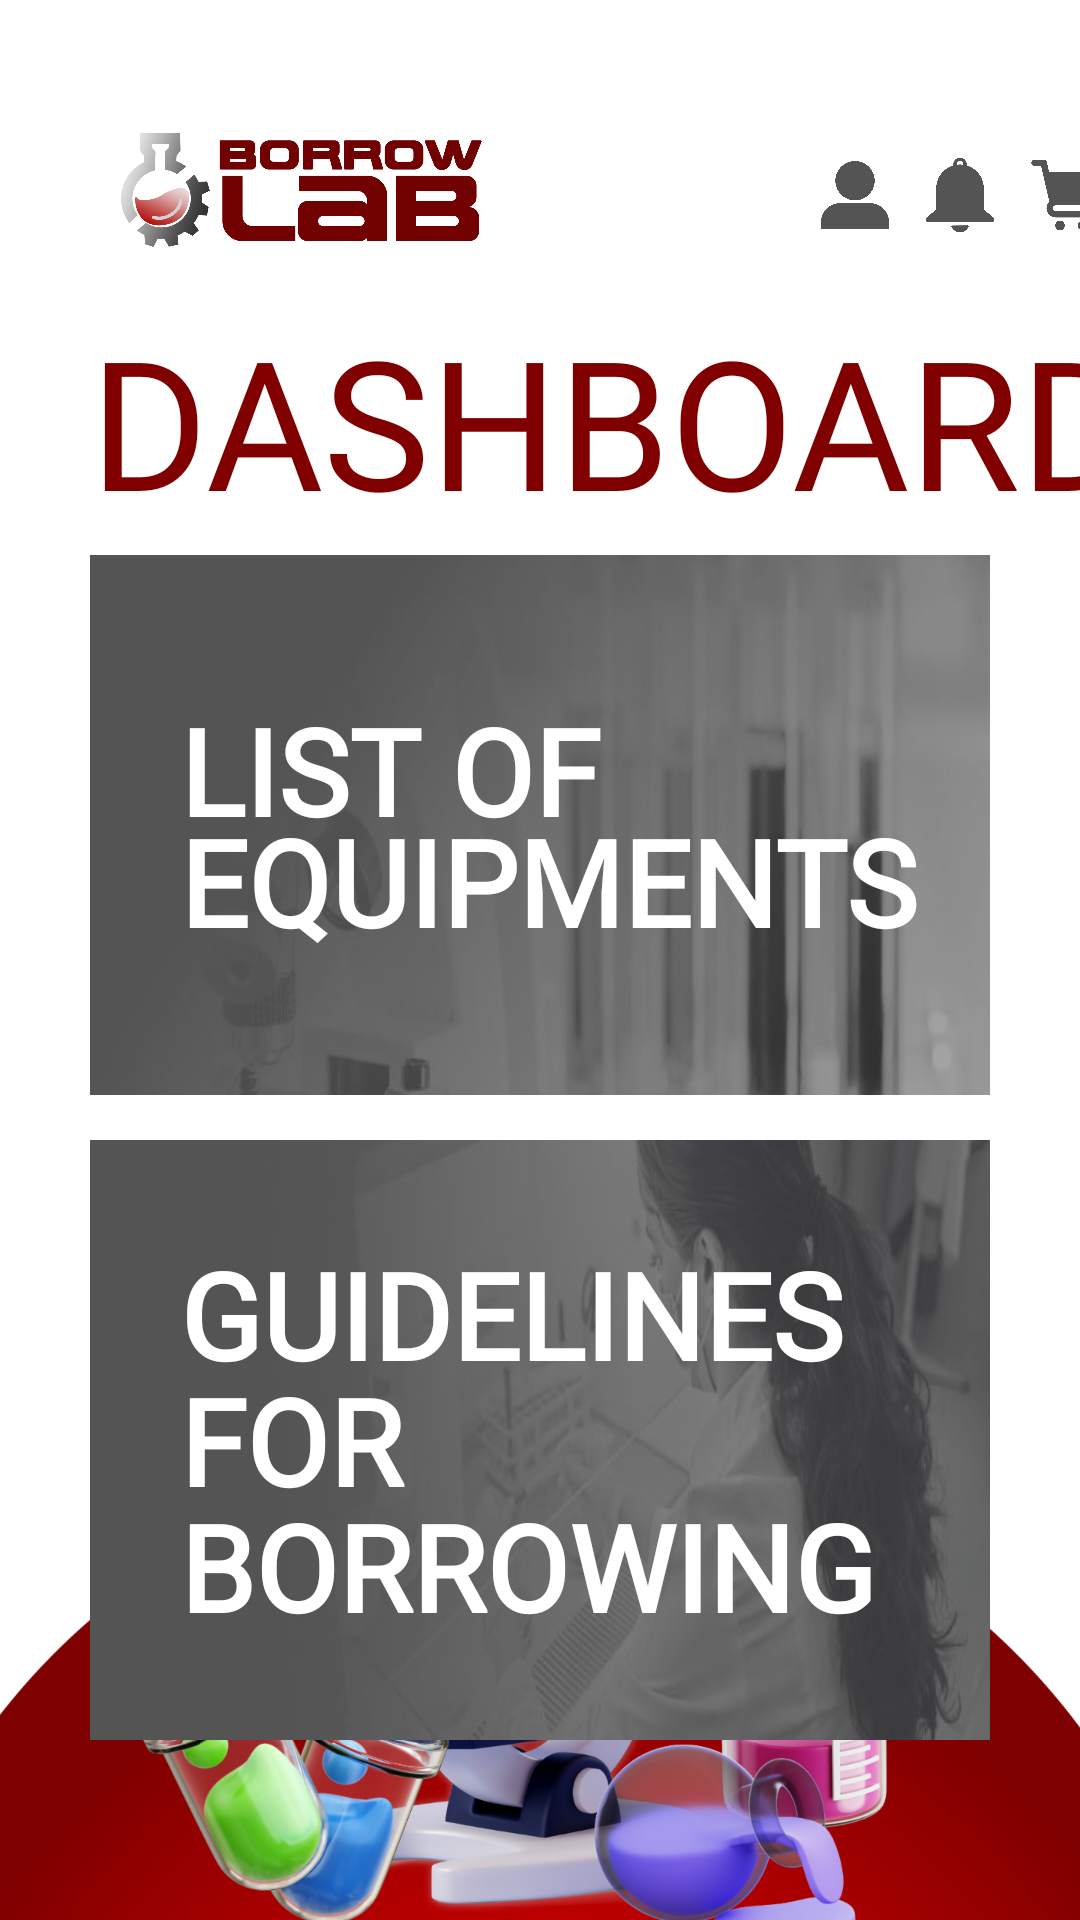

Screen size 1080×1920. Icon name, then its center in pixels as point (x, y):
Notification: point (960, 195)
Profile: point (855, 195)
